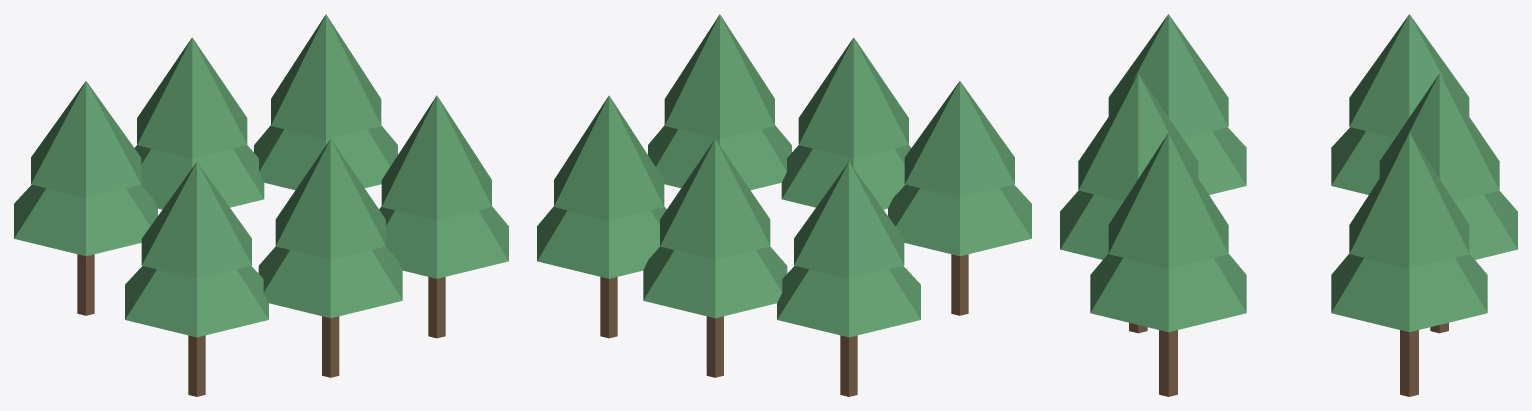
The model's file is map_facility_grove_01.glb.
The picture shows the model from 3 angles, left to right: view 1: azimuth 30°, elevation 25°; view 2: azimuth 150°, elevation 25°; view 3: azimuth 270°, elevation 25°; orthographic projection. The views are drawn at different scales.
Visible parts, largest first — view 1: map_facility_grove_01; view 2: map_facility_grove_01; view 3: map_facility_grove_01.
Part boxes in pixels (bbox=[...]): map_facility_grove_01: bbox=[14, 14, 508, 396]; map_facility_grove_01: bbox=[537, 14, 1031, 396]; map_facility_grove_01: bbox=[1060, 14, 1517, 396].
Size of the model in its own units: 8 by 4.76 by 7.6.
